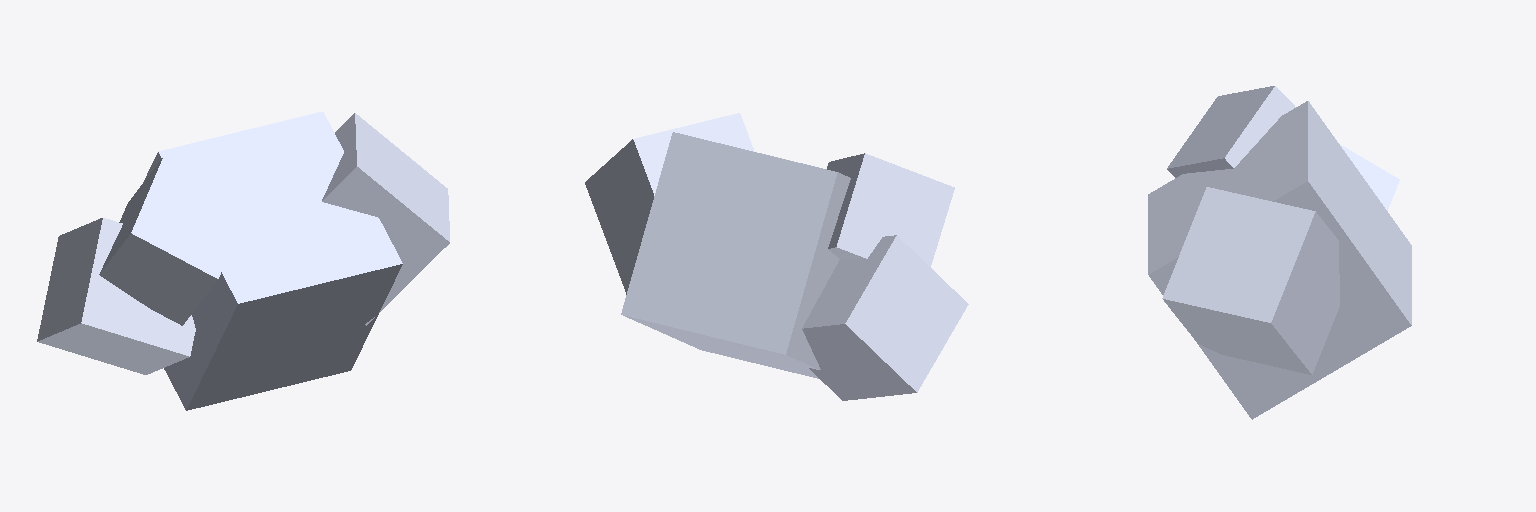
Rendered from cloud.obj.
3 views of the same model, side by side, from view 1: azimuth 30°, elevation 25°; view 2: azimuth 150°, elevation 25°; view 3: azimuth 270°, elevation 25° (orthographic).
Parts seen in each view (by area): view 1: Cube.009, Cube.007, Cube.005, Cube.008; view 2: Cube.009, Cube.005, Cube.007, Cube.008; view 3: Cube.009, Cube.008, Cube.007, Cube.005.
Part boxes in pixels (x1,y1,x2,y2): Cube.009: (143,111,402,410); Cube.007: (99,157,250,325); Cube.005: (37,218,195,374); Cube.008: (322,113,449,325); Cube.009: (621,132,850,378); Cube.005: (802,235,968,400); Cube.007: (827,153,954,266); Cube.008: (585,113,754,294); Cube.009: (1148,101,1411,419); Cube.008: (1162,187,1339,374); Cube.007: (1167,86,1295,177); Cube.005: (1340,145,1399,210).
Size of the model in its own units: 4.55 by 2.88 by 2.77.